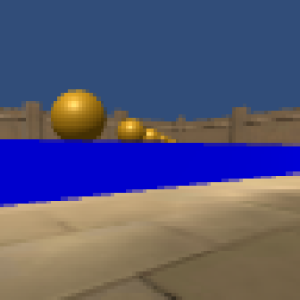goodGoalMulti: (48, 87, 107, 142), (116, 116, 146, 143), (147, 129, 158, 143), (160, 136, 170, 143)
platform: (1, 139, 300, 193)
